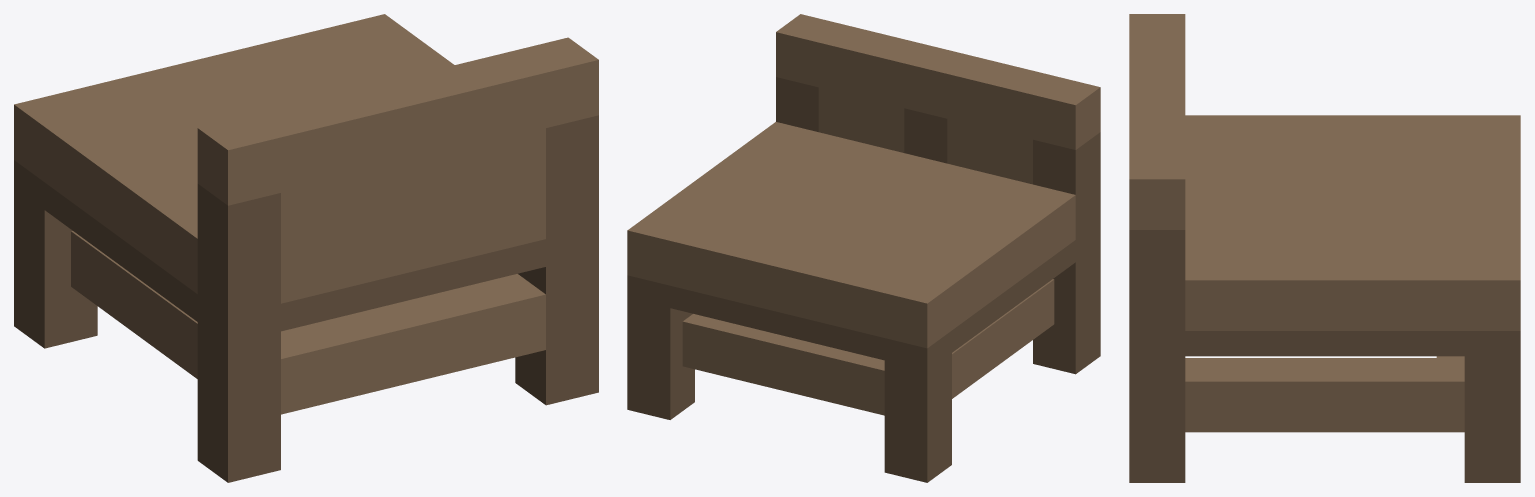
The model's file is silla_nogal_tallada_01.glb.
3 renders of one model, left to right at view 1: azimuth 30°, elevation 25°; view 2: azimuth 150°, elevation 25°; view 3: azimuth 270°, elevation 25°, orthographic. The views are drawn at different scales.
Parts seen in each view (by area): view 1: silla_nogal_tallada; view 2: silla_nogal_tallada; view 3: silla_nogal_tallada.
Part boxes in pixels (x1,y1,x2,y2): silla_nogal_tallada: [14, 14, 598, 482]; silla_nogal_tallada: [627, 14, 1100, 482]; silla_nogal_tallada: [1129, 14, 1520, 482].
Bounding box in the file's own units: 1 × 0.8571 × 1.
